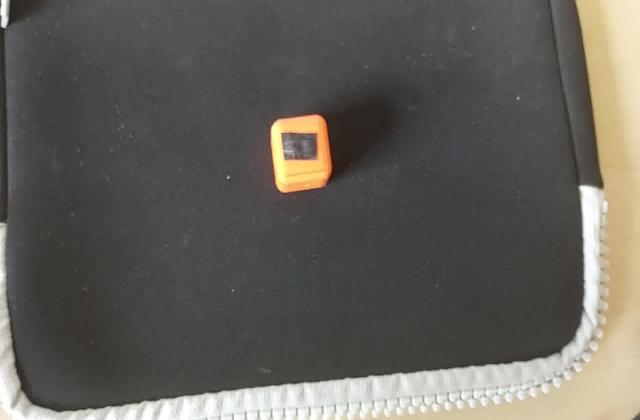black: (276, 128, 322, 166)
sticker: (266, 111, 337, 198)
